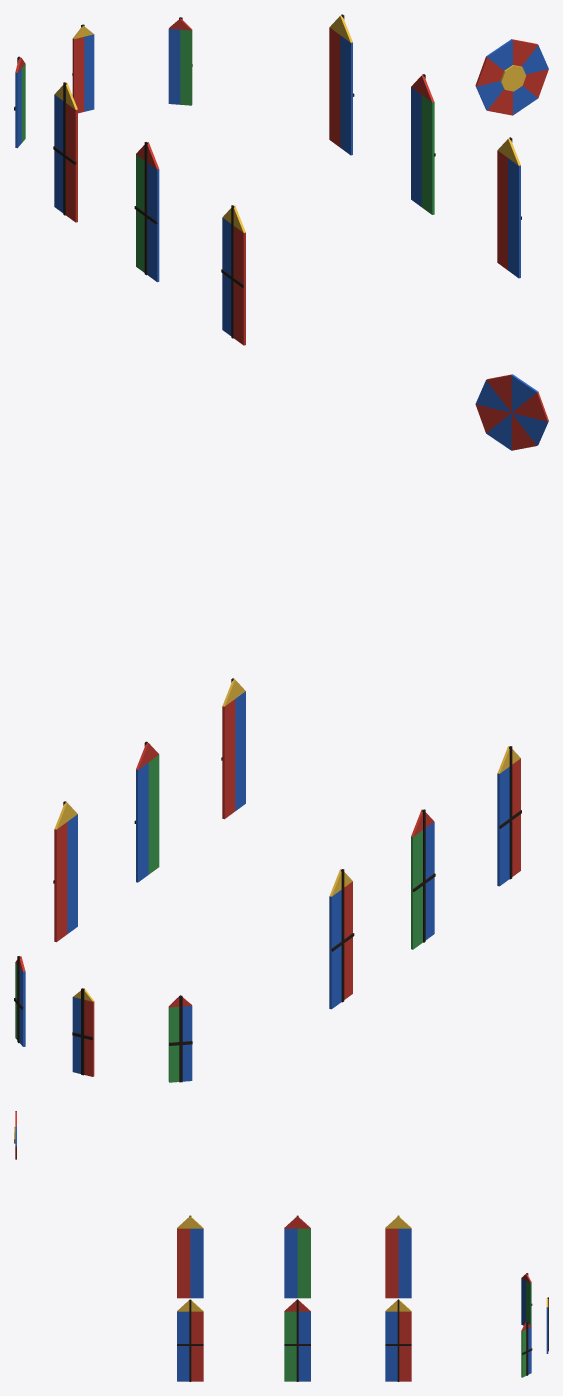
The model's file is castle_stained_glass.glb.
3 renders of one model, top to bottom at view 1: azimuth 30°, elevation 25°; view 2: azimuth 150°, elevation 25°; view 3: azimuth 270°, elevation 25°, orthographic. The views are drawn at different scales.
Visible parts, largest first — view 1: castle_stained_glass; view 2: castle_stained_glass; view 3: castle_stained_glass.
Part boxes in pixels (x1,y1,x2,y2): castle_stained_glass: (14, 14, 548, 345); castle_stained_glass: (14, 374, 548, 1082); castle_stained_glass: (14, 1111, 548, 1381).
Size of the model in its own units: 6.34 by 8.36 by 16.96.
